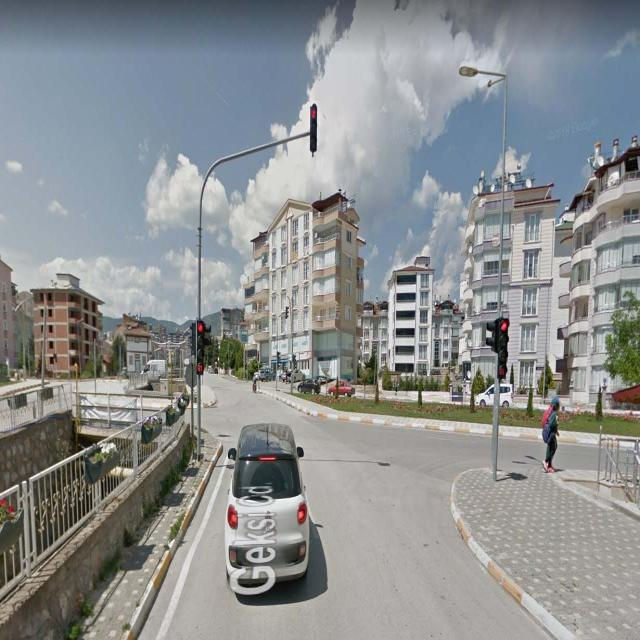kirmizi: (499, 317, 509, 365), (197, 320, 204, 356), (311, 102, 316, 150)
